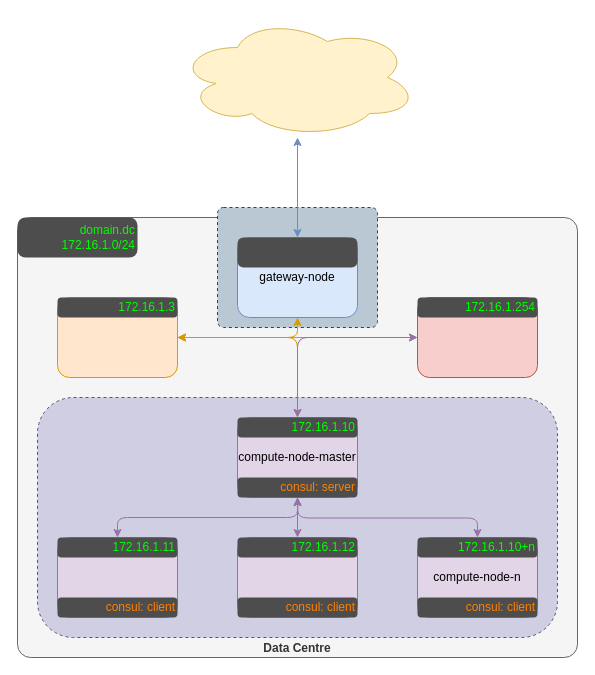
Some shapes in this 595 by 675 pixel diagram are drawn without their labels. Each missing label, with the box of its shape:
compute-node-1: (56, 536, 178, 618)
compute-node-2: (236, 536, 358, 618)
controller-node: (56, 296, 178, 378)
DMZ: (216, 206, 378, 328)
dns-node: (416, 296, 538, 378)
eth0=public_ip eth0:0=172.16.1.2: (237, 237, 357, 267)
Service level DNS with Consul: (36, 396, 558, 638)
WAN: (176, 16, 418, 138)
